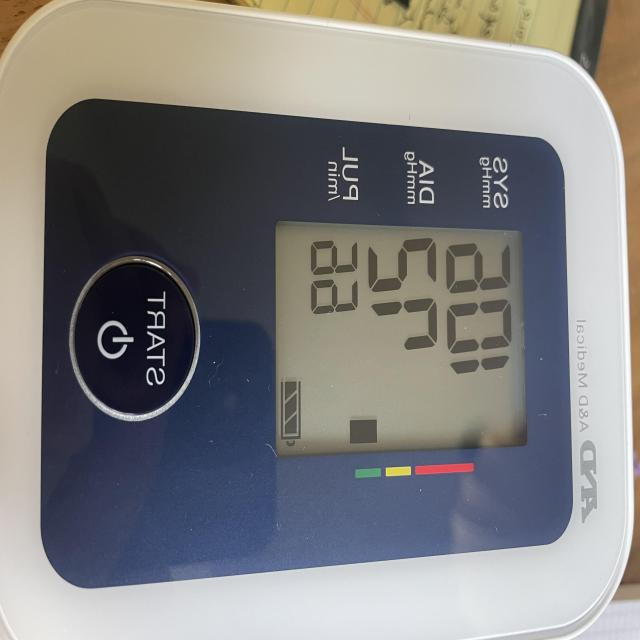bp: (0, 0, 636, 640)
